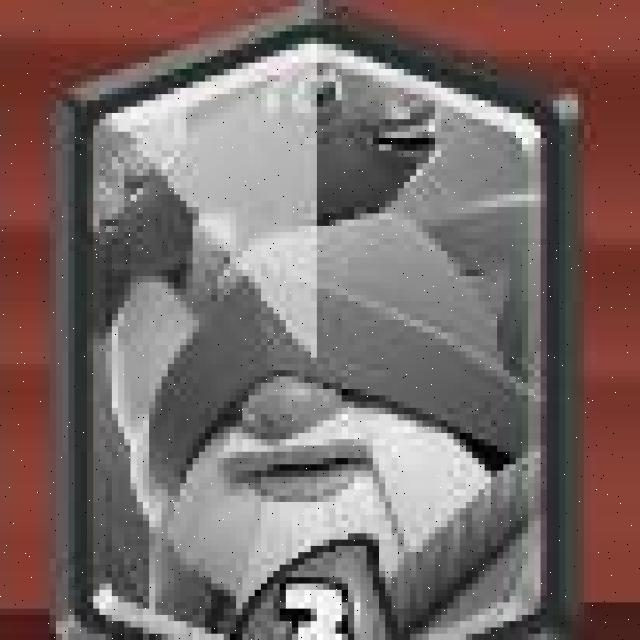Fisherman: (61, 14, 558, 640)
